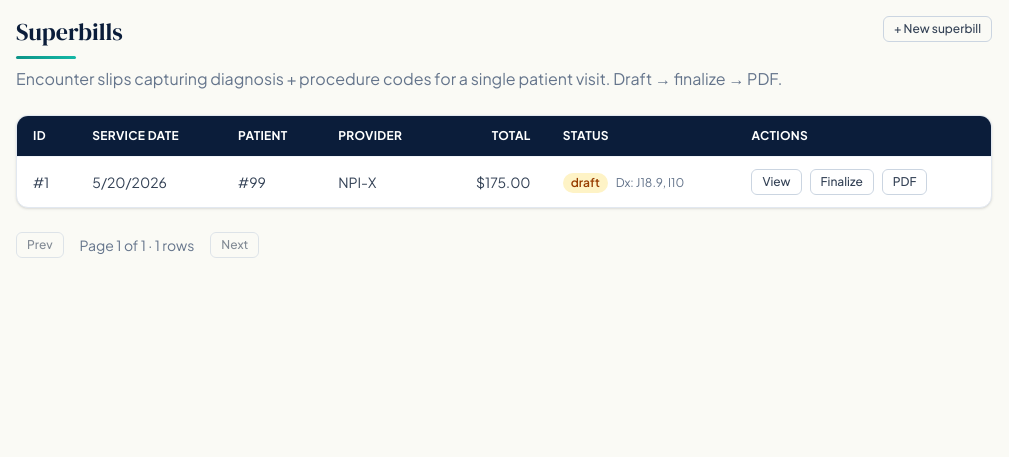
Test case: SuperbillsPage › expands the detail panel on View
expect the text "#1" is shown: met, box [17,156,76,207]
Click the button "View" at x=776, y=182, box [751,169,802,195]
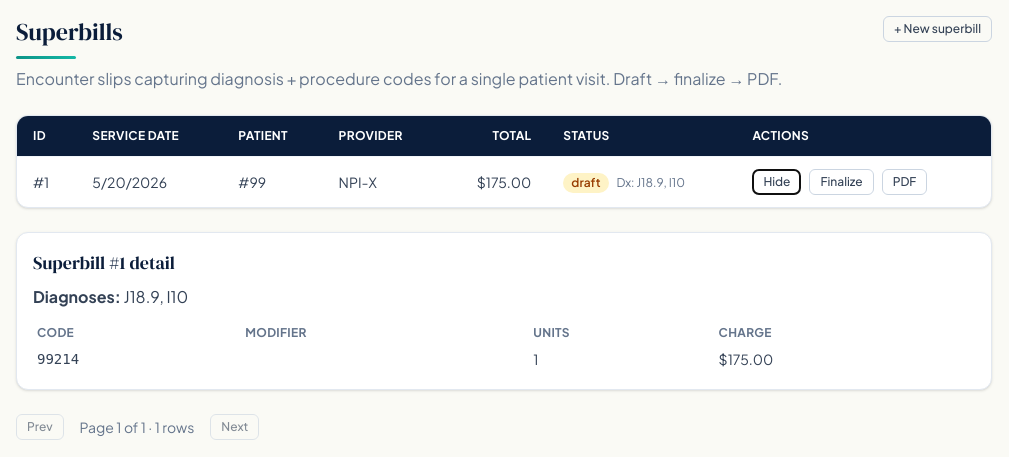
expect the heading "Superbill #1 detail" is shown: met, box [33,250,175,275]
expect the text "99214" is shown: met, box [33,345,241,373]
